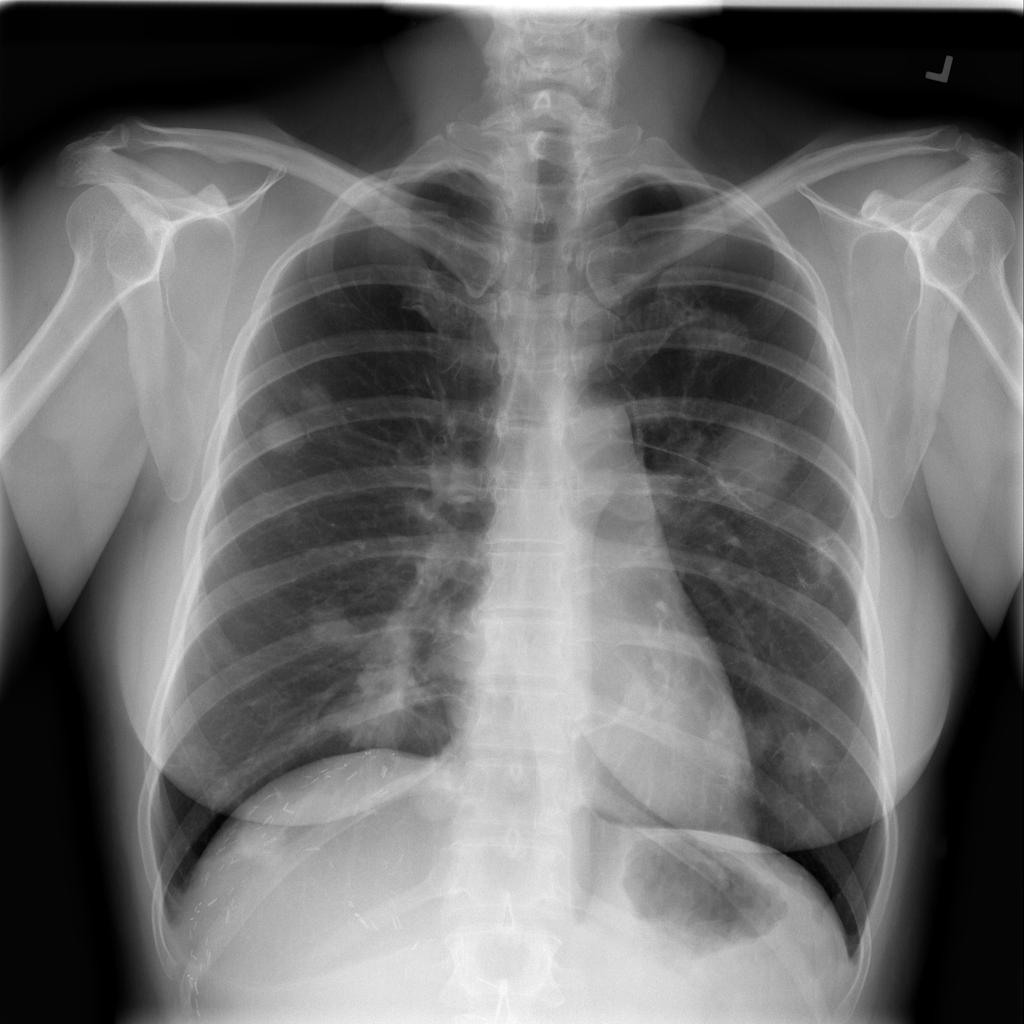nodule: (694, 401, 810, 526), (399, 753, 475, 831), (292, 590, 377, 659), (769, 716, 847, 790), (247, 397, 317, 469), (276, 361, 348, 427)
